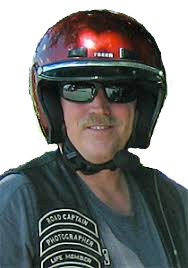com_capacete: (28, 8, 166, 175)
